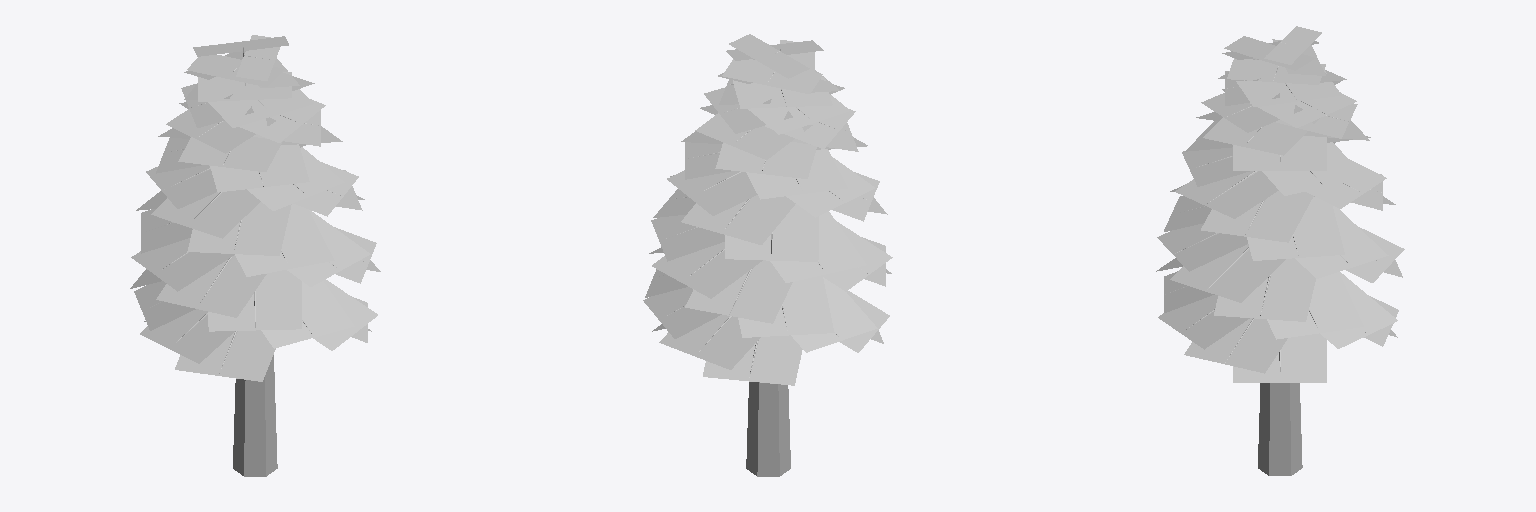
The model's file is great_pine.obj.
3 views of the same model, side by side, from view 1: azimuth 30°, elevation 25°; view 2: azimuth 150°, elevation 25°; view 3: azimuth 270°, elevation 25° (orthographic).
Parts seen in each view (by area): view 1: plant; view 2: plant; view 3: plant.
Part boxes in pixels (bbox=[...]): plant: bbox=[130, 35, 380, 476]; plant: bbox=[643, 34, 892, 476]; plant: bbox=[1156, 26, 1404, 475].
Bounding box in the file's own units: 8.05 × 14.99 × 7.99.